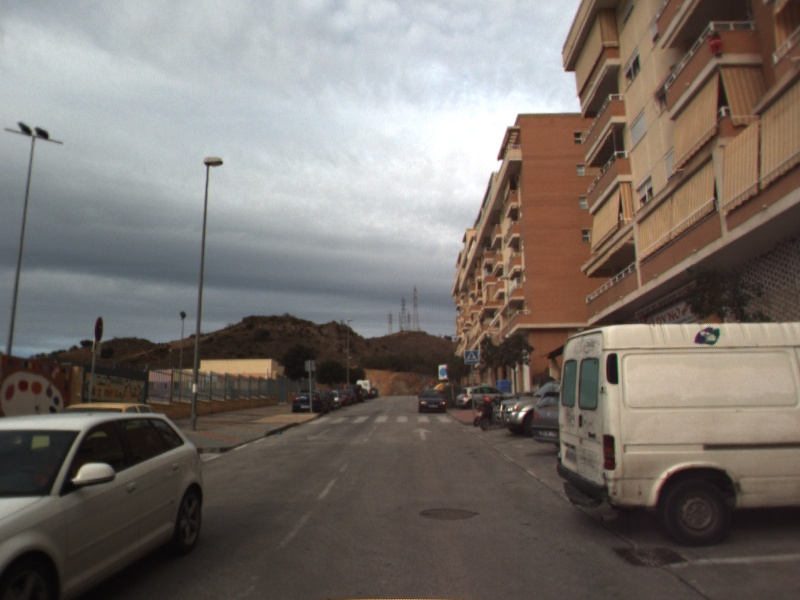STRAIGHT: (410, 425, 435, 442)
